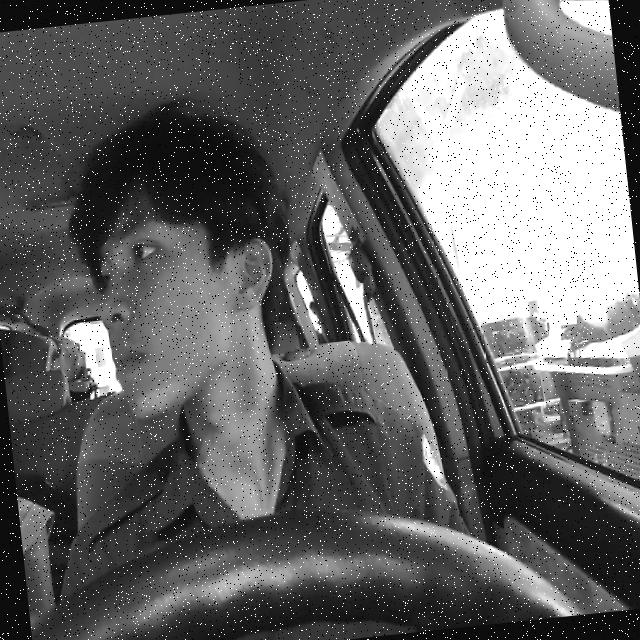seeing_left: (84, 171, 288, 425)
